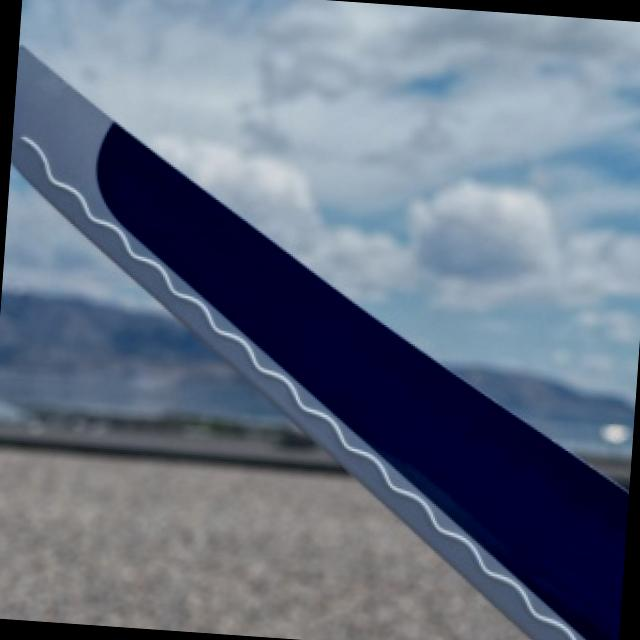healthy: (13, 47, 629, 640)
